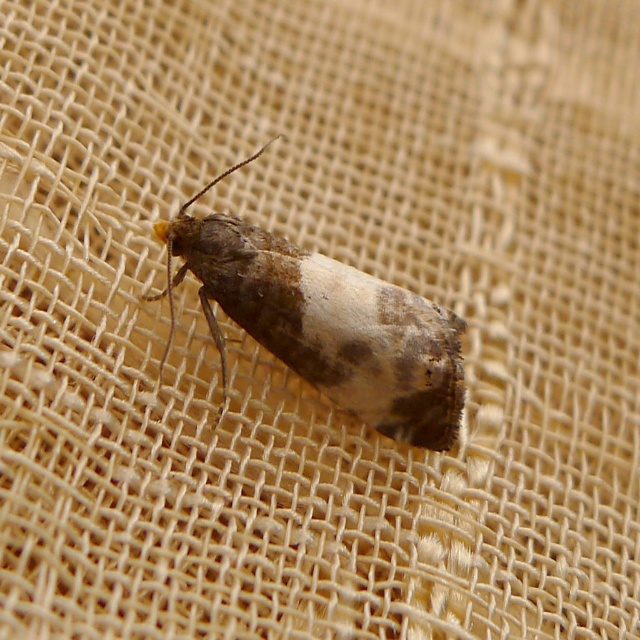Moths and butterflies: (137, 127, 465, 464)
